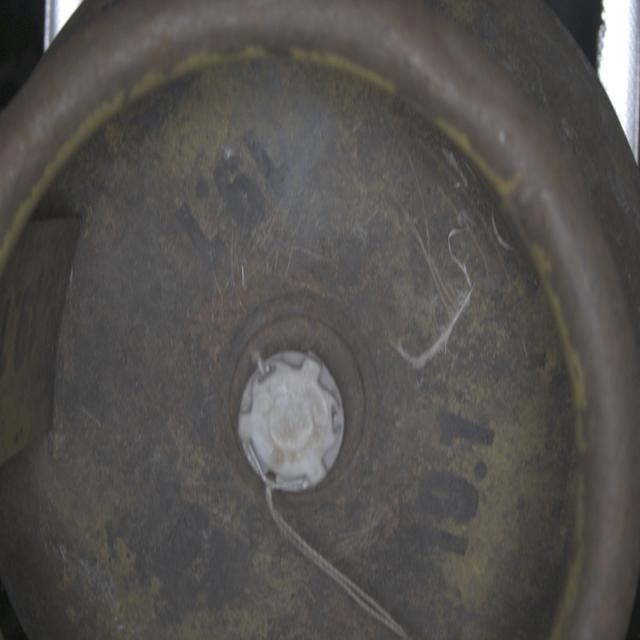Cap: (237, 348, 344, 491)
